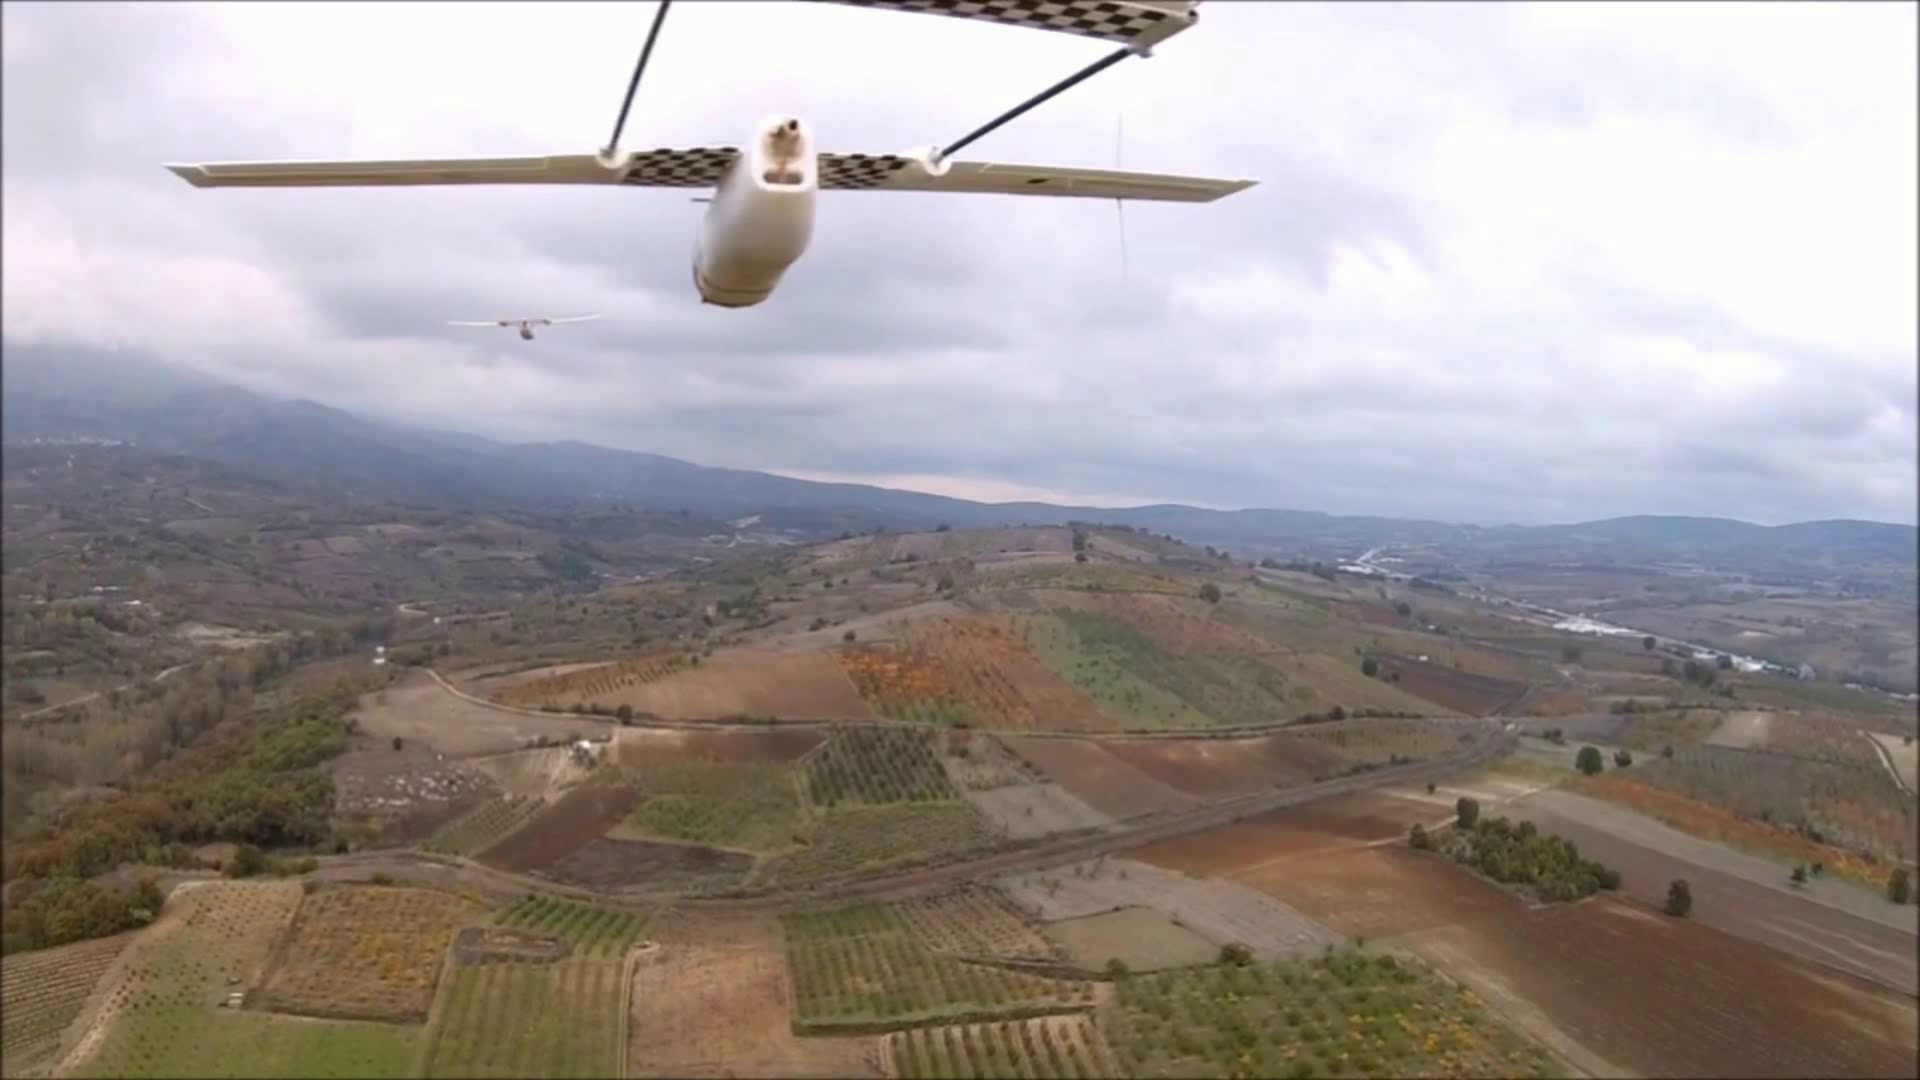airplane: (160, 4, 1259, 318)
